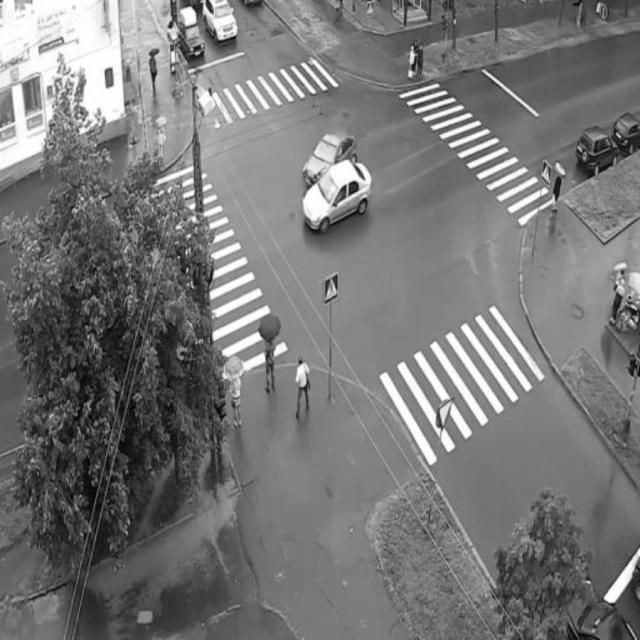accident: (301, 127, 373, 223)
person: (224, 349, 248, 430), (258, 319, 278, 399), (297, 345, 315, 416), (552, 148, 569, 220), (614, 263, 629, 330), (414, 30, 429, 85), (154, 109, 166, 170), (145, 50, 162, 92), (409, 35, 423, 86)
vehicle: (575, 128, 617, 183), (199, 1, 243, 43), (610, 106, 640, 157), (178, 15, 208, 61)
